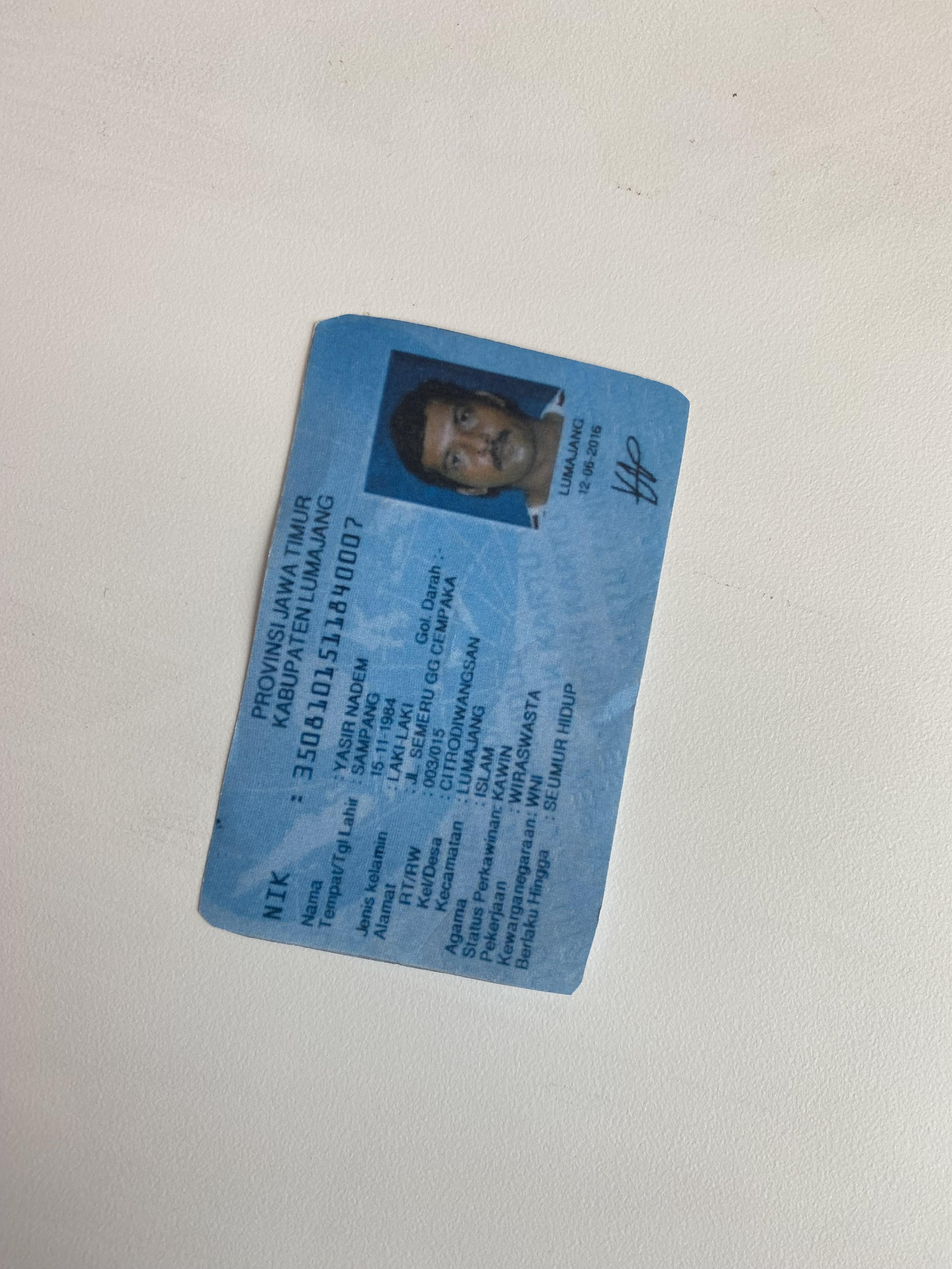ktp: (190, 317, 698, 990)
